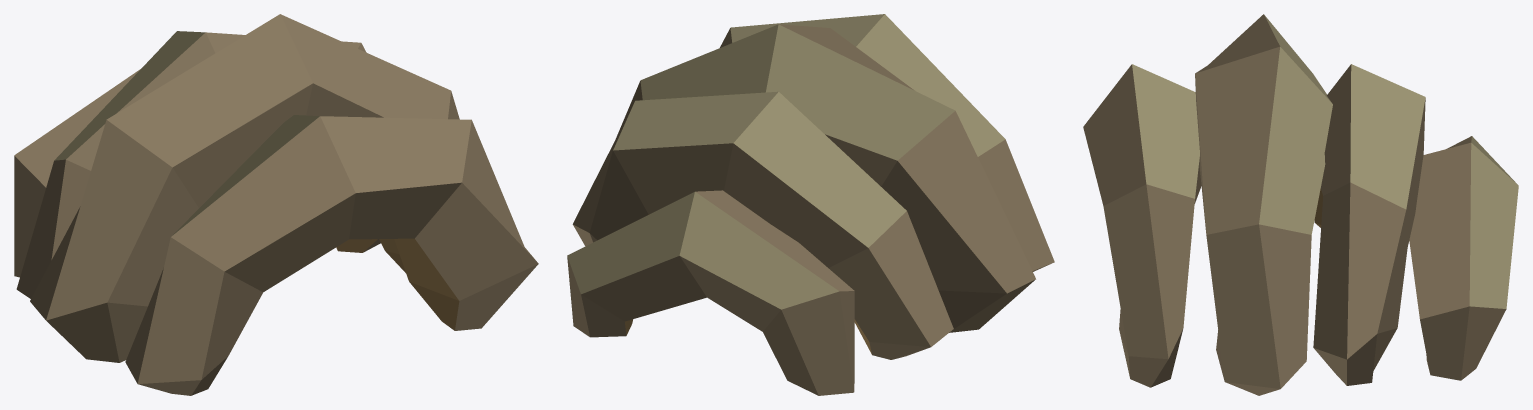
File: TB_D_Env_BoneD_B.FBX
The picture shows the model from 3 angles, left to right: view 1: azimuth 30°, elevation 25°; view 2: azimuth 150°, elevation 25°; view 3: azimuth 270°, elevation 25°; orthographic projection. The views are drawn at different scales.
Visible parts, largest first — view 1: TB_D_Env_BoneD_B; view 2: TB_D_Env_BoneD_B; view 3: TB_D_Env_BoneD_B.
Boxes of the visible parts, box(x1,y1,x2,y2) form: TB_D_Env_BoneD_B: box(14, 14, 538, 395); TB_D_Env_BoneD_B: box(567, 14, 1054, 395); TB_D_Env_BoneD_B: box(1083, 14, 1518, 395).
Size of the model in its own units: 1.65 by 0.9755 by 1.4.
